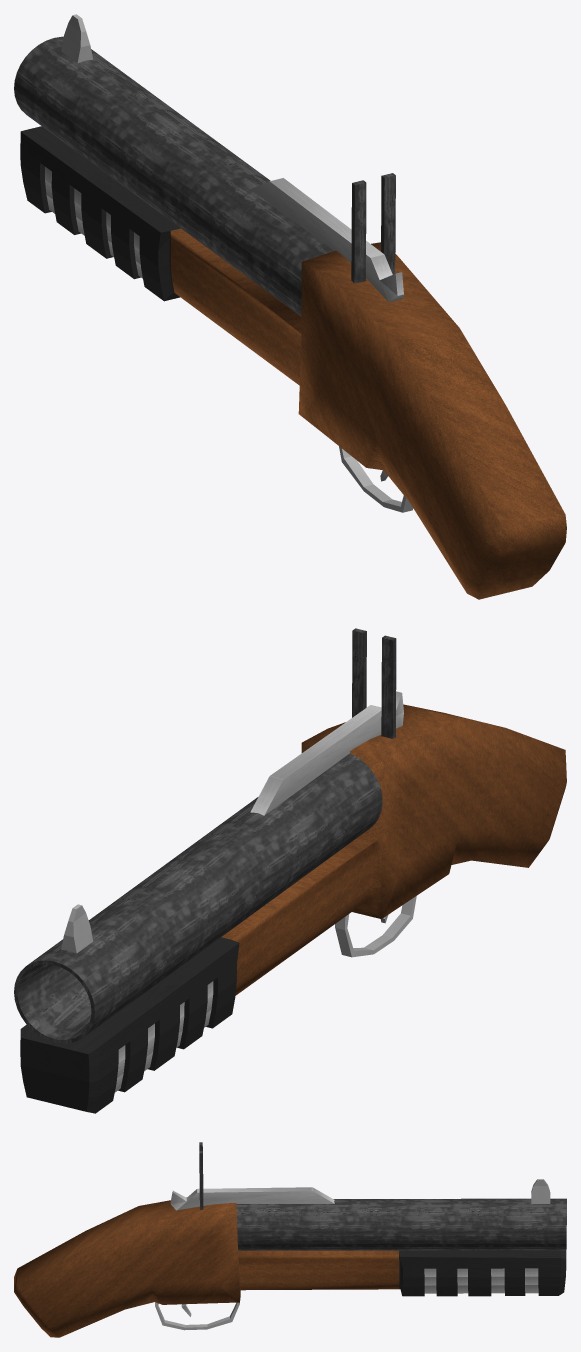
Rendered from gun_grenadelauncher.obj.
3 views of the same model, one above another, from view 1: azimuth 30°, elevation 25°; view 2: azimuth 150°, elevation 25°; view 3: azimuth 270°, elevation 25° (orthographic). The views are drawn at different scales.
Visible parts, largest first — view 1: Cube; view 2: Cube; view 3: Cube.
Part boxes in pixels (box(x1,y1,x2,y2)): Cube: box(14, 14, 566, 599); Cube: box(14, 628, 566, 1113); Cube: box(14, 1142, 566, 1337).
Bounding box in the file's own units: 0.0298 × 0.1092 × 0.3012.
